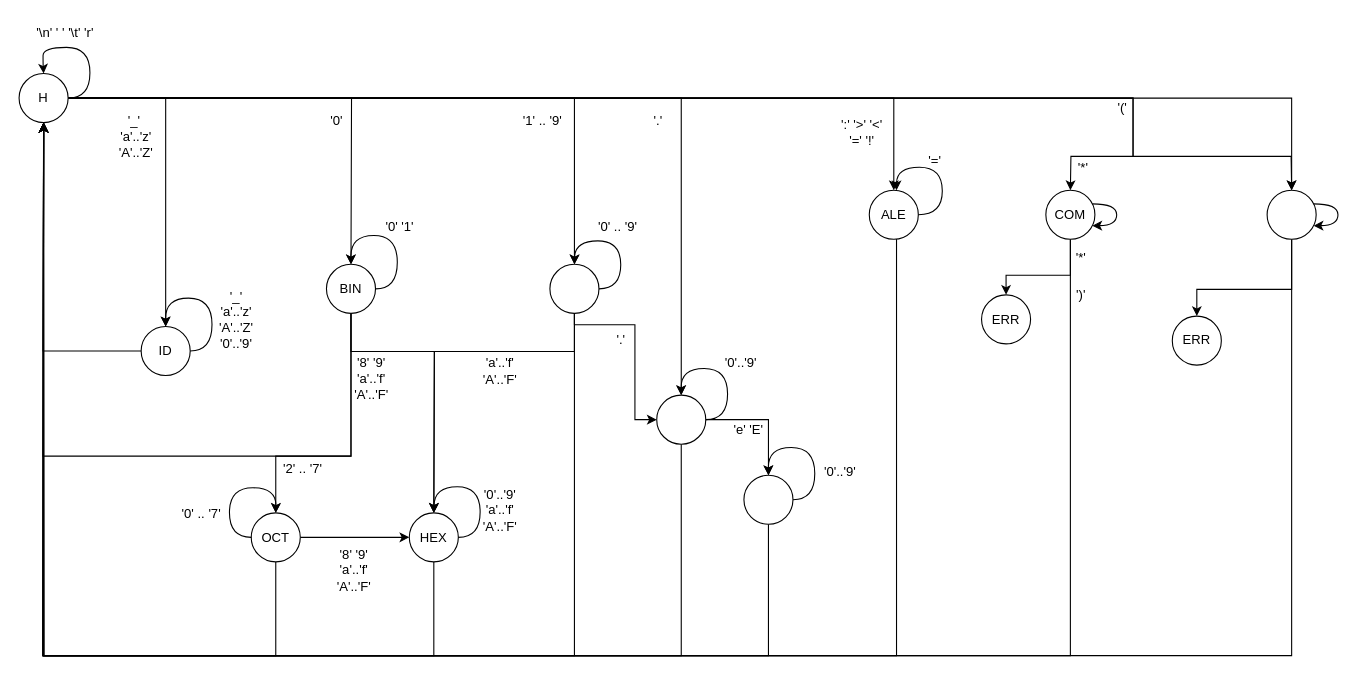
Some shapes in this 1357 by 683 pixel diagram are drawn without their labels. Each missing label, with the box of its shape:
DEC: (549, 263, 599, 313)
DELIM: (1266, 189, 1316, 239)
EXP: (743, 474, 793, 524)
FLT: (656, 394, 706, 444)
